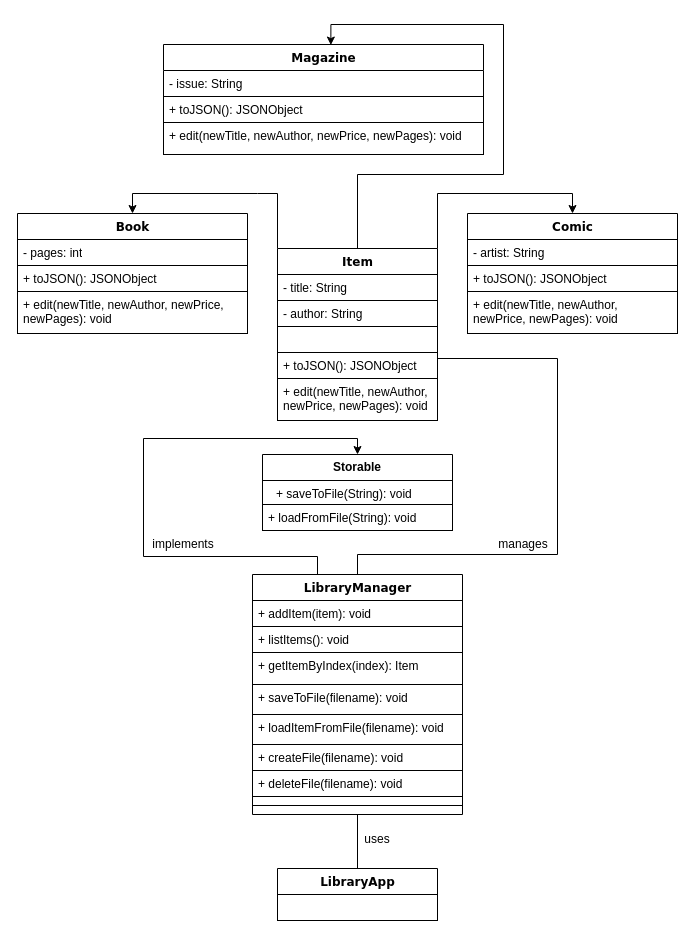
Some shapes in this 695 by 941 pixel diagram are drawn without their labels. Each missing label, with the centre of its shape:
"+ main(args): void" goes at (357,907).
"- price: double" goes at (357,339).
